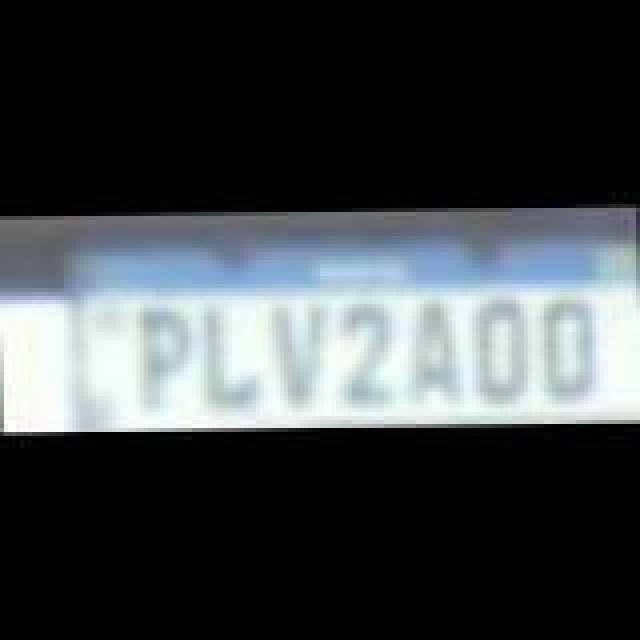2: (338, 298, 398, 406)
A: (402, 298, 462, 406)
D: (536, 292, 600, 404), (468, 300, 532, 404)
L: (198, 306, 266, 414)
P: (136, 306, 192, 414)
V: (266, 300, 326, 412)
